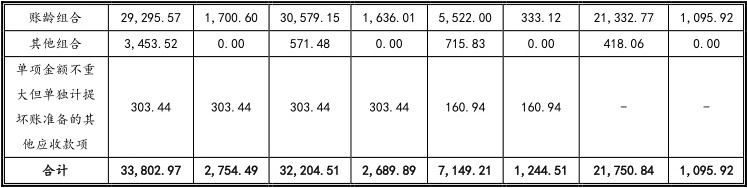column: (17, 4, 96, 186), (280, 1, 340, 188), (594, 1, 654, 188), (121, 4, 181, 188), (204, 2, 260, 188), (438, 1, 493, 188), (363, 3, 418, 188), (680, 3, 734, 188), (515, 3, 568, 188)
row: (1, 62, 747, 76), (1, 164, 747, 178), (2, 11, 747, 25), (2, 88, 747, 101), (1, 138, 747, 150), (3, 113, 747, 125), (1, 37, 747, 48), (1, 102, 747, 113)
